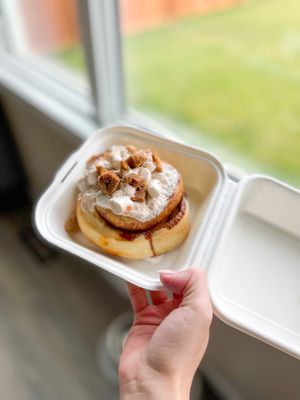soup: (74, 145, 191, 260)
